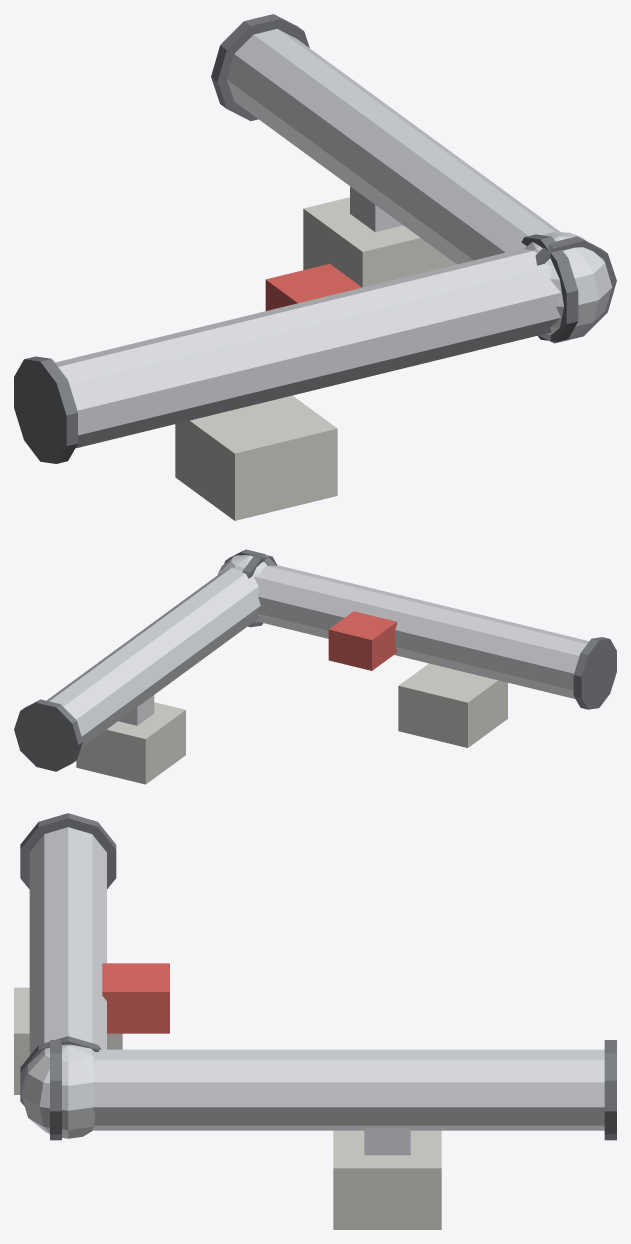
File: rocket-launch-pad-and-gantry-deluge-pipe-elbow-6f862fe9__38162.glb
3 renders of one model, top to bottom at view 1: azimuth 30°, elevation 25°; view 2: azimuth 150°, elevation 25°; view 3: azimuth 270°, elevation 25°, orthographic. The views are drawn at different scales.
Visible parts, largest first — view 1: deluge-pipe-elbow; view 2: deluge-pipe-elbow; view 3: deluge-pipe-elbow.
Boxes of the visible parts, x1,y1,x2,y2 form: deluge-pipe-elbow: (14, 14, 616, 520); deluge-pipe-elbow: (14, 549, 616, 784); deluge-pipe-elbow: (14, 813, 616, 1229).
Bounding box in the file's own units: 4.43 × 1.32 × 4.45.
